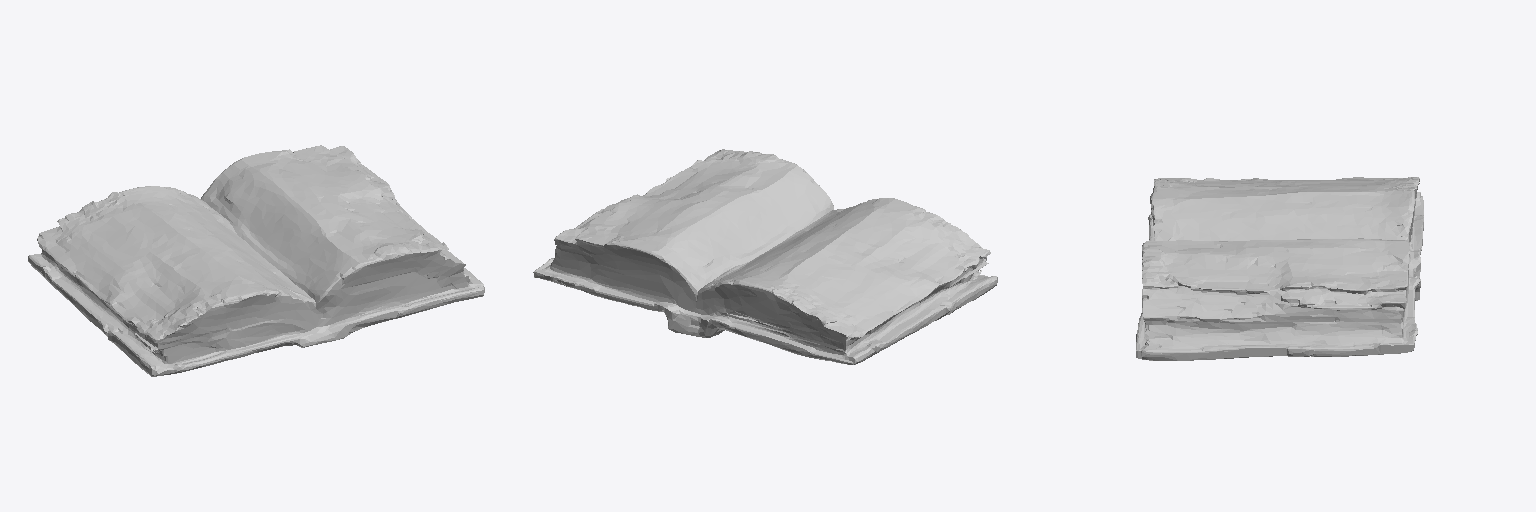
File: old_book__0512005433_texture.obj
The picture shows the model from 3 angles: view 1: azimuth 30°, elevation 25°; view 2: azimuth 150°, elevation 25°; view 3: azimuth 270°, elevation 25°; orthographic projection.
Visible parts, largest first — view 1: old_book__[number redacted]_texture; view 2: old_book__[number redacted]_texture; view 3: old_book__[number redacted]_texture.
Part boxes in pixels (x1,y1,x2,y2): old_book__[number redacted]_texture: (28,145,484,376); old_book__[number redacted]_texture: (533,149,997,364); old_book__[number redacted]_texture: (1136,177,1423,360).
Size of the model in its own units: 2 by 0.4648 by 1.49.